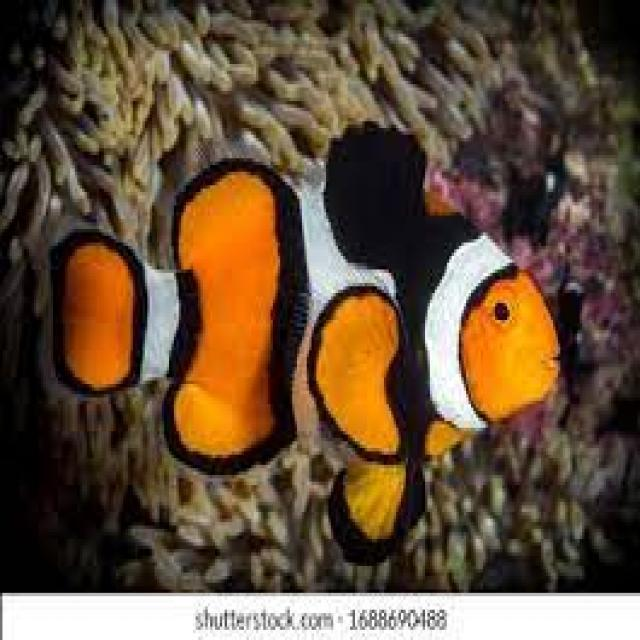ClownFish: (46, 114, 563, 557)
